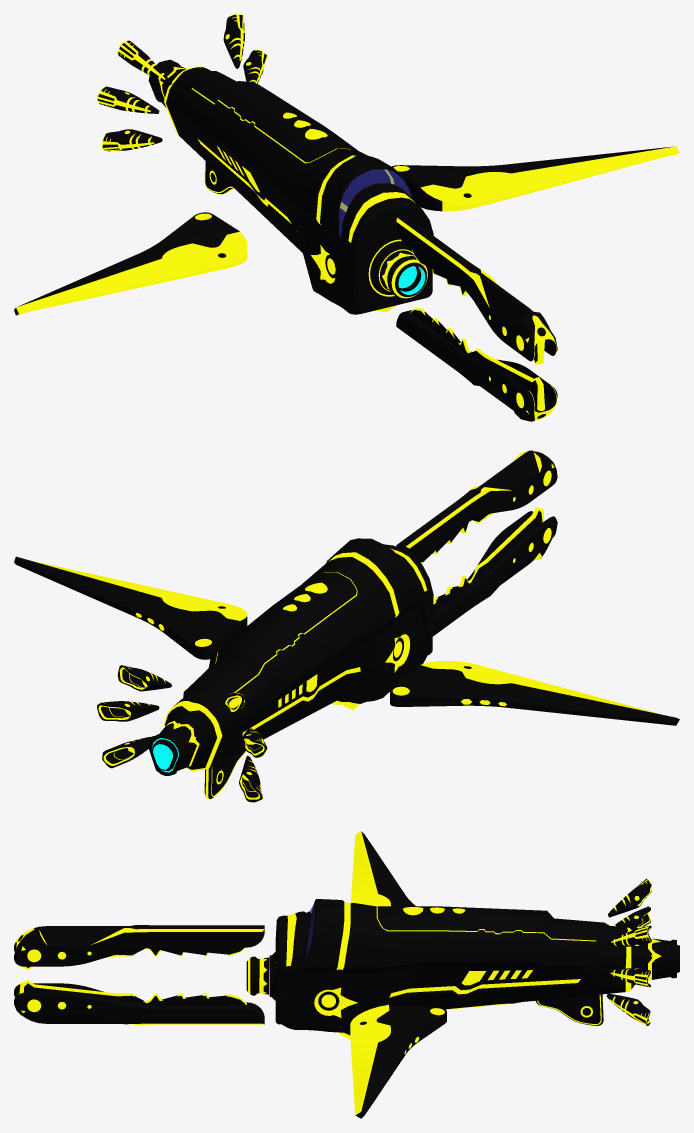
File: Dolphin_Test.fbx
3 renders of one model, top to bottom at view 1: azimuth 30°, elevation 25°; view 2: azimuth 150°, elevation 25°; view 3: azimuth 270°, elevation 25°, orthographic. The views are drawn at different scales.
Parts seen in each view (by area): view 1: Chassis, LeftWing, RightWing.001, TopNose, bottomNose, Engine case Right.2, Engine case Right.3, Engine case Right.1, Engine case Left.1; view 2: Chassis, RightWing.001, LeftWing, TopNose, bottomNose, Engine case Left.2, Engine case Left.1, Engine case Left.3, Engine case Right.3; view 3: Chassis, TopNose, bottomNose, LeftWing, RightWing.001, Engine case Right.1, Engine case Left.3, Engine case Left.1, Engine case Left.2, Engine case Right.2.
Part boxes in pixels (box(x1,y1,x2,y2)): Chassis: box(148, 59, 433, 314); LeftWing: box(391, 146, 679, 211); RightWing.001: box(14, 212, 247, 315); TopNose: box(396, 215, 557, 364); bottomNose: box(396, 308, 557, 421); Engine case Right.2: box(97, 86, 159, 113); Engine case Right.3: box(102, 129, 162, 151); Engine case Right.1: box(117, 40, 171, 85); Engine case Left.1: box(223, 14, 244, 68); Chassis: box(148, 538, 433, 799); RightWing.001: box(390, 661, 679, 725); LeftWing: box(14, 556, 247, 659); TopNose: box(396, 450, 557, 563); bottomNose: box(432, 507, 557, 636); Engine case Left.2: box(97, 701, 159, 721); Engine case Left.1: box(117, 665, 171, 691); Engine case Left.3: box(102, 735, 155, 768); Engine case Right.3: box(239, 755, 262, 802); Chassis: box(246, 899, 679, 1039); TopNose: box(14, 925, 264, 969); bottomNose: box(14, 980, 264, 1024); LeftWing: box(350, 1004, 446, 1118); RightWing.001: box(351, 831, 415, 906); Engine case Right.1: box(608, 878, 651, 917); Engine case Left.3: box(606, 993, 650, 1025); Engine case Left.1: box(607, 925, 651, 946); Engine case Left.2: box(607, 968, 650, 987); Engine case Right.2: box(613, 906, 650, 930).
Size of the model in its own units: 529 by 121 by 530.
